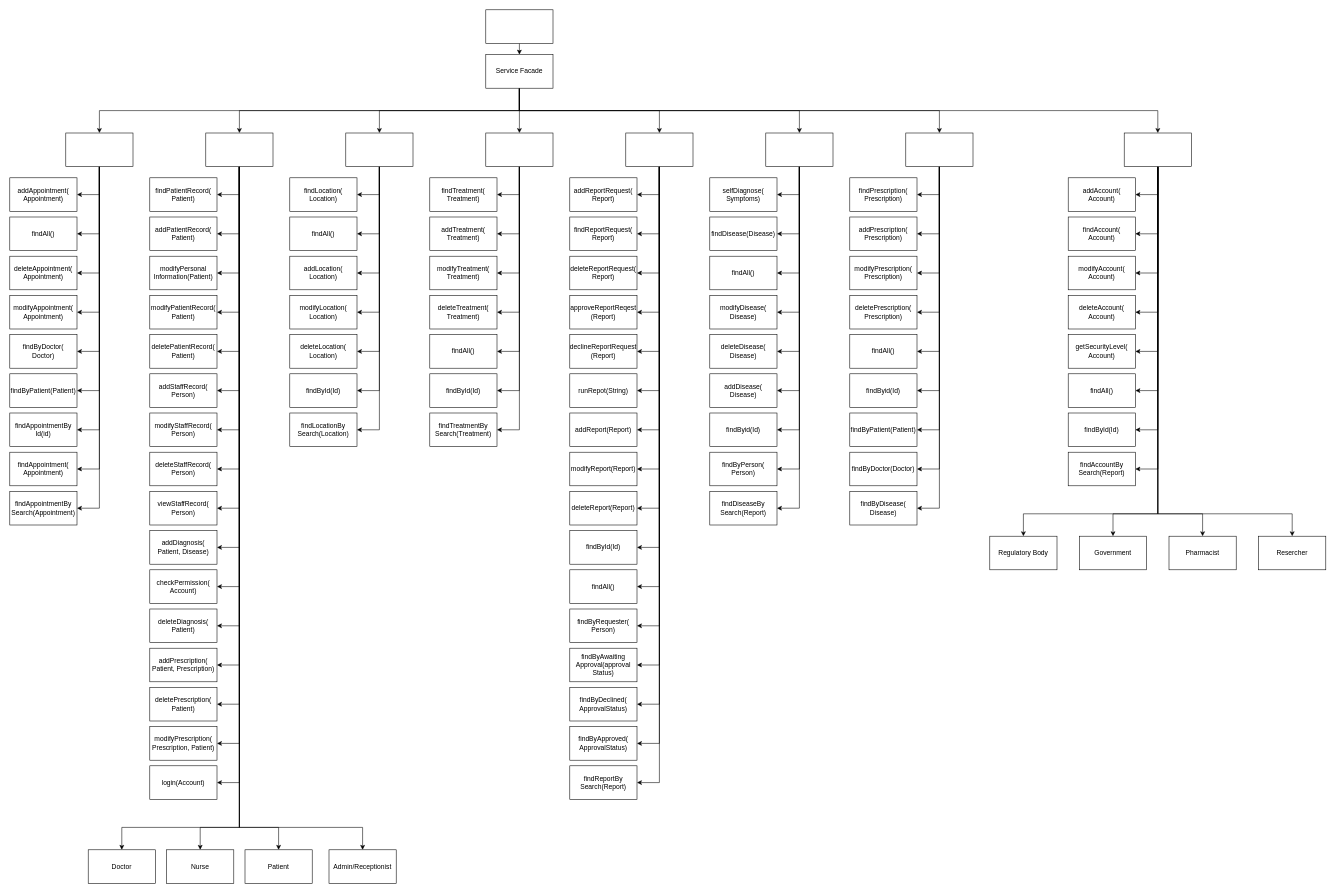
The diagram is 1336 pixels wide and 893 high, and some of its shapes have lost their labels. Each missing label, with the box of its shape:
Account: (1124, 132, 1191, 167)
Appointment: (65, 132, 133, 167)
Disease: (765, 132, 833, 167)
Location: (345, 132, 413, 167)
Person: (205, 132, 273, 167)
Prescription: (905, 132, 973, 167)
Report: (625, 132, 693, 167)
SMART Medical Managment System: (485, 9, 553, 43)
Treatment: (485, 132, 553, 167)
